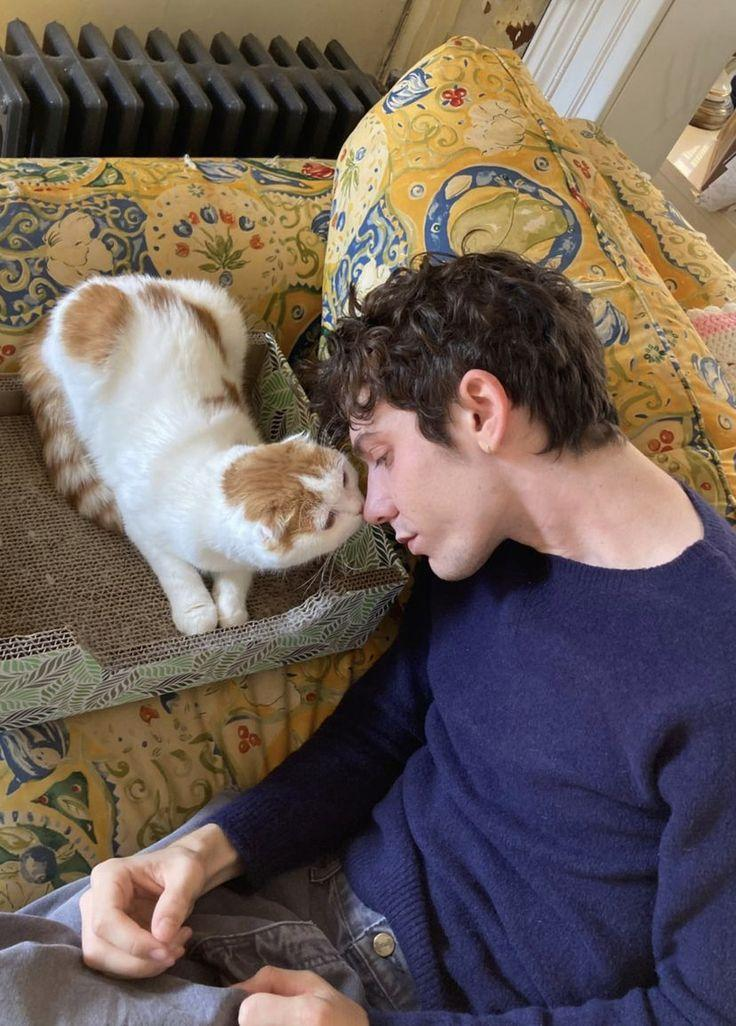kedo: (26, 275, 364, 630)
